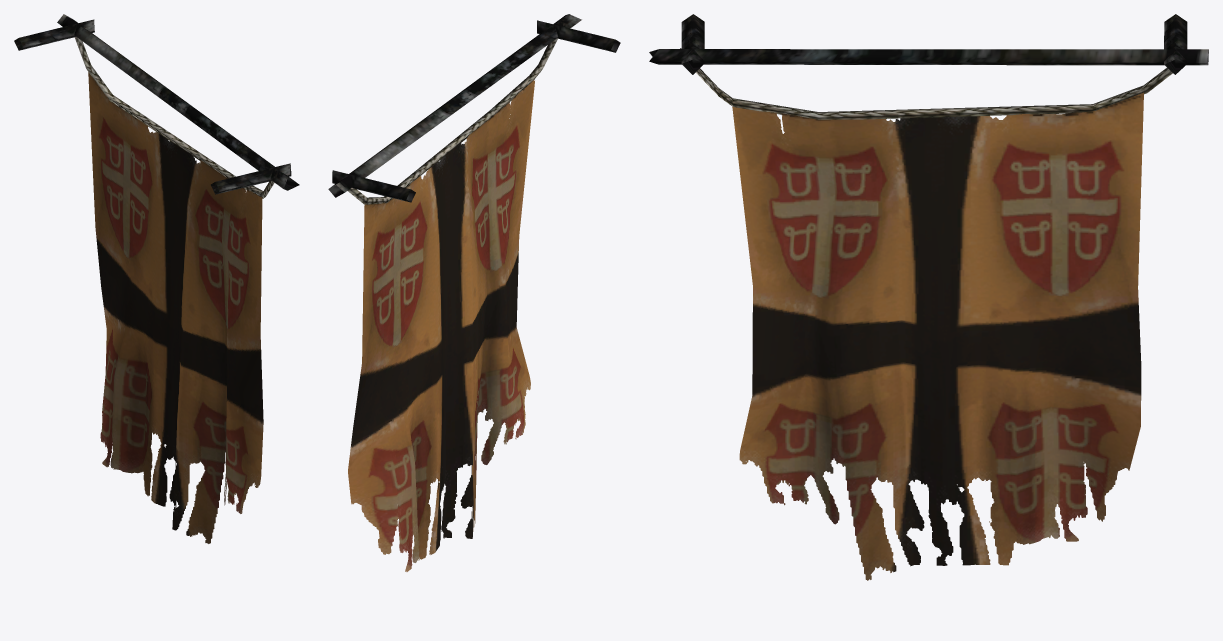
Rendered from banner01.dae.
The picture shows the model from 3 angles, left to right: view 1: azimuth 30°, elevation 25°; view 2: azimuth 150°, elevation 25°; view 3: azimuth 270°, elevation 25°; orthographic projection. The views are drawn at different scales.
Visible parts, largest first — view 1: polySurface12; view 2: polySurface12; view 3: polySurface12.
Part boxes in pixels (x1,y1,x2,y2): polySurface12: [14, 14, 299, 543]; polySurface12: [328, 14, 620, 571]; polySurface12: [649, 14, 1208, 580].
Size of the model in its own units: 0.3532 by 2.09 by 1.81.
